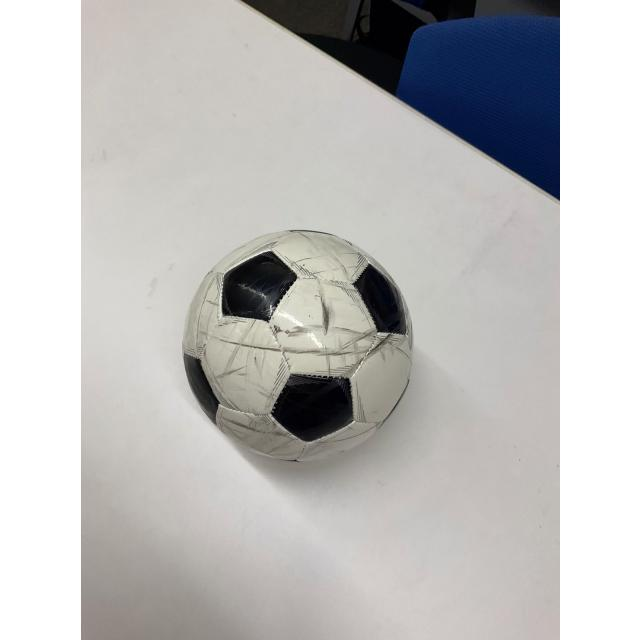ball: (182, 228, 412, 464)
